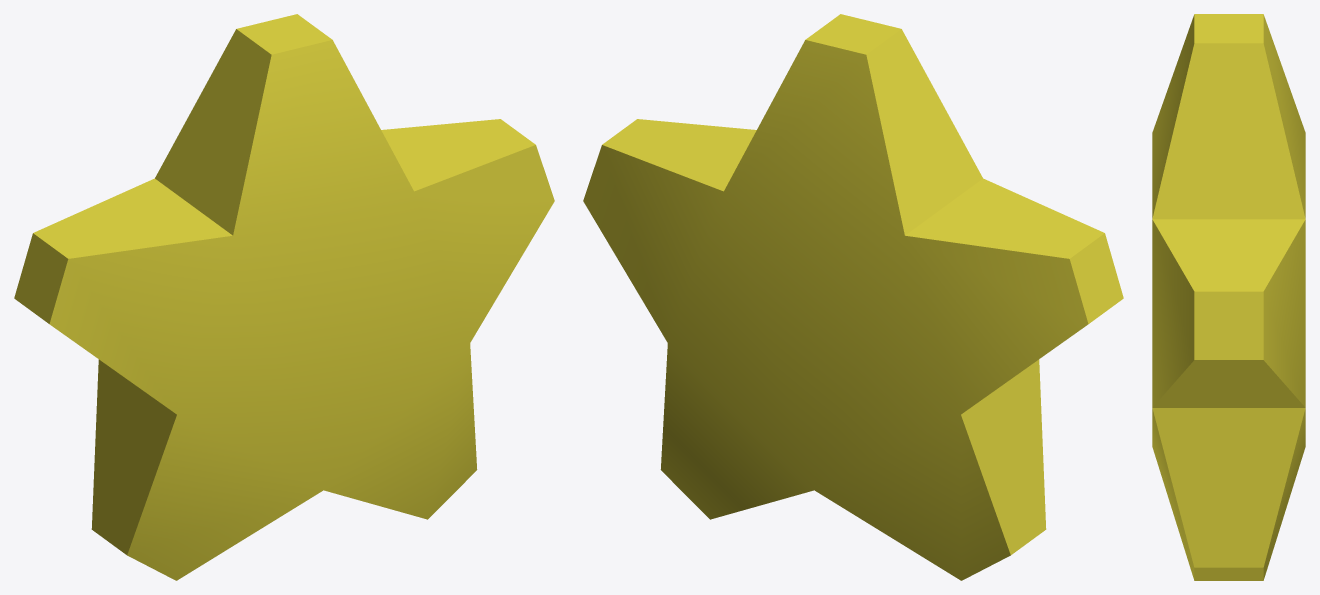
File: star.fbx
The picture shows the model from 3 angles, left to right: view 1: azimuth 30°, elevation 25°; view 2: azimuth 150°, elevation 25°; view 3: azimuth 270°, elevation 25°; orthographic projection. The views are drawn at different scales.
Parts seen in each view (by area): view 1: star; view 2: star; view 3: star.
Boxes of the visible parts, x1,y1,x2,y2 form: star: [14, 14, 554, 580]; star: [583, 14, 1123, 580]; star: [1152, 14, 1305, 580].
Size of the model in its own units: 3.4 by 3.23 by 0.9113.
